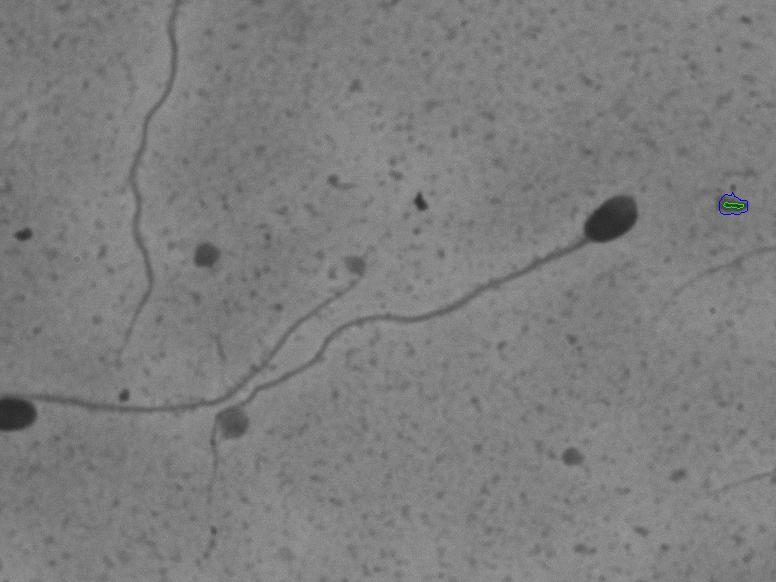Normal: (191, 179, 651, 529)
